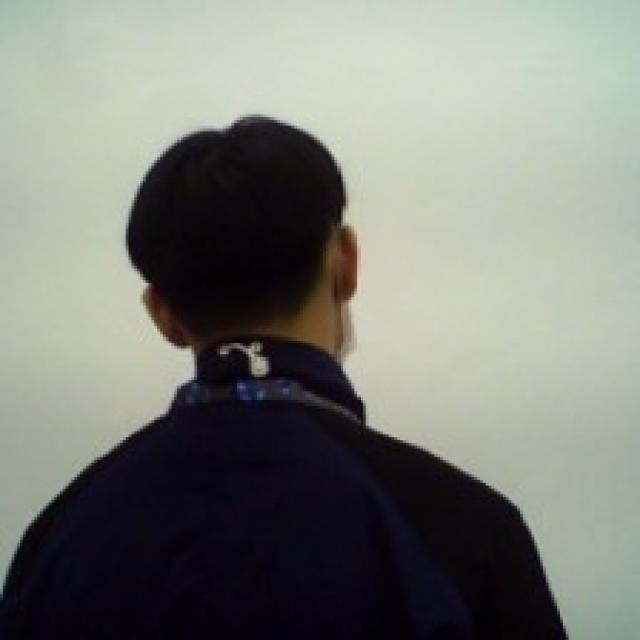no_gloves: (126, 108, 364, 361)
